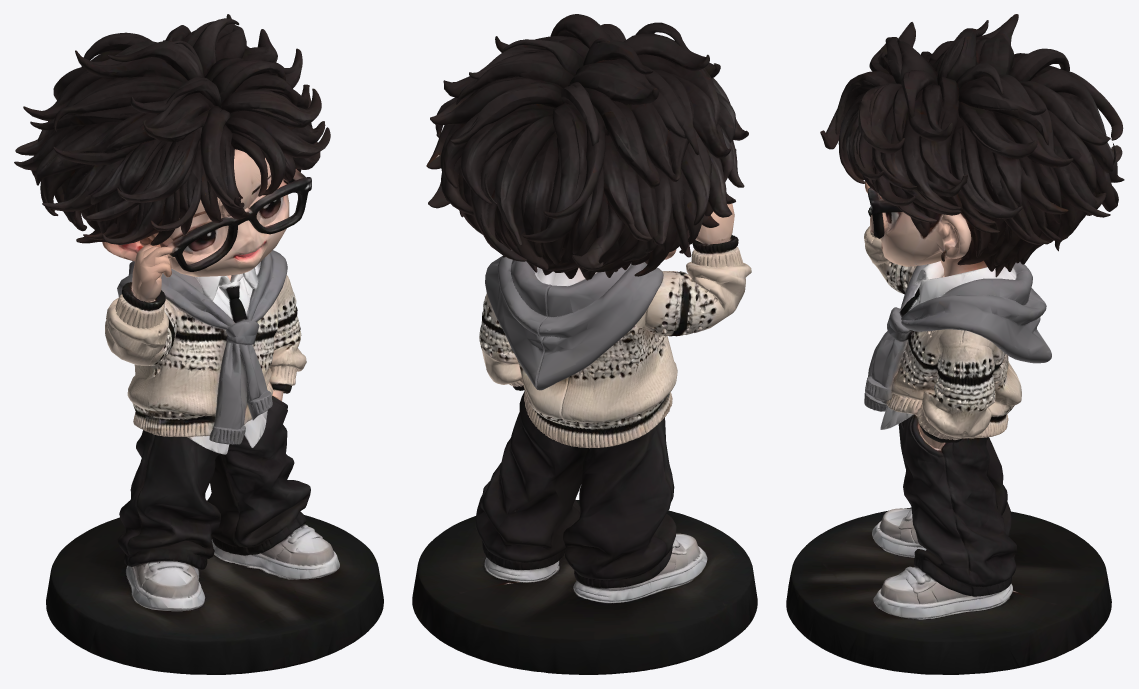
The model's file is beige.glb.
The picture shows the model from 3 angles, left to right: view 1: azimuth 30°, elevation 25°; view 2: azimuth 150°, elevation 25°; view 3: azimuth 270°, elevation 25°; orthographic projection. The views are drawn at different scales.
Visible parts, largest first — view 1: model; view 2: model; view 3: model.
Boxes of the visible parts, <box> form: model: <box>14,14,383,674</box>; model: <box>412,14,757,674</box>; model: <box>786,14,1124,674</box>.
Size of the model in its own units: 1.07 by 1.9 by 1.05.
1 material, 1 textured.
